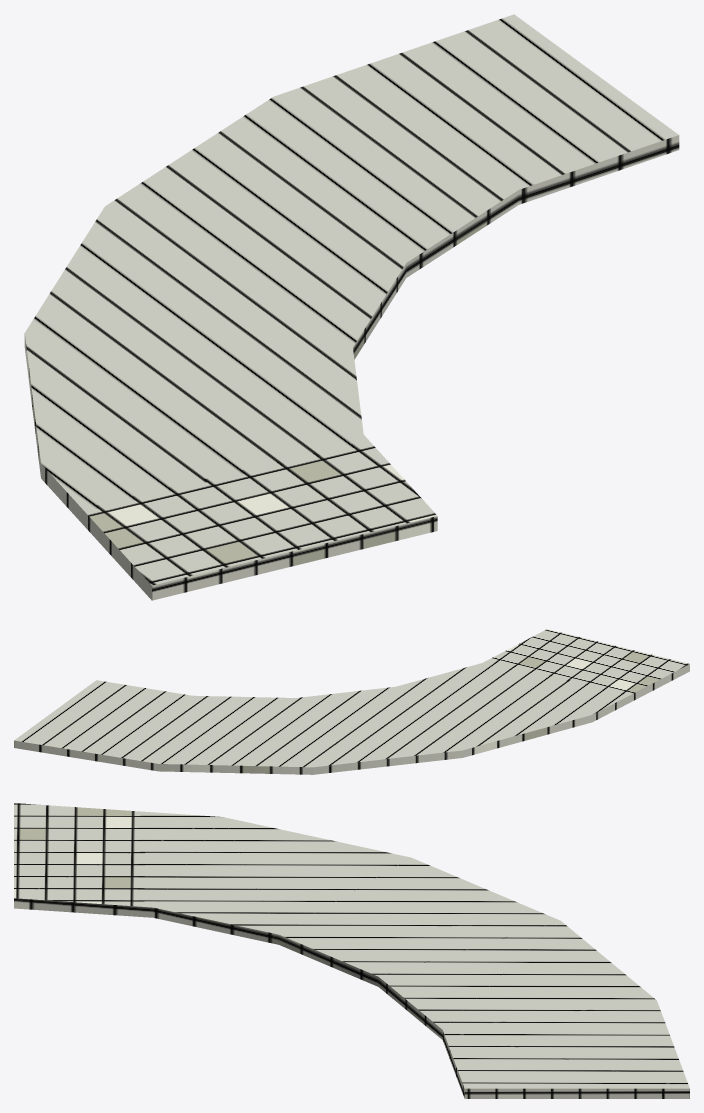
Rendered from TileCeilingCurved.fbx.
3 views of the same model, one above another, from view 1: azimuth 30°, elevation 25°; view 2: azimuth 150°, elevation 25°; view 3: azimuth 270°, elevation 25° (orthographic). The views are drawn at different scales.
Visible parts, largest first — view 1: TileCeilingCurved; view 2: TileCeilingCurved; view 3: TileCeilingCurved.
Boxes of the visible parts, x1,y1,x2,y2 form: TileCeilingCurved: (24, 14, 679, 600); TileCeilingCurved: (14, 629, 689, 774); TileCeilingCurved: (14, 803, 689, 1098).
Size of the model in its own units: 3000 by 50.26 by 3000.
